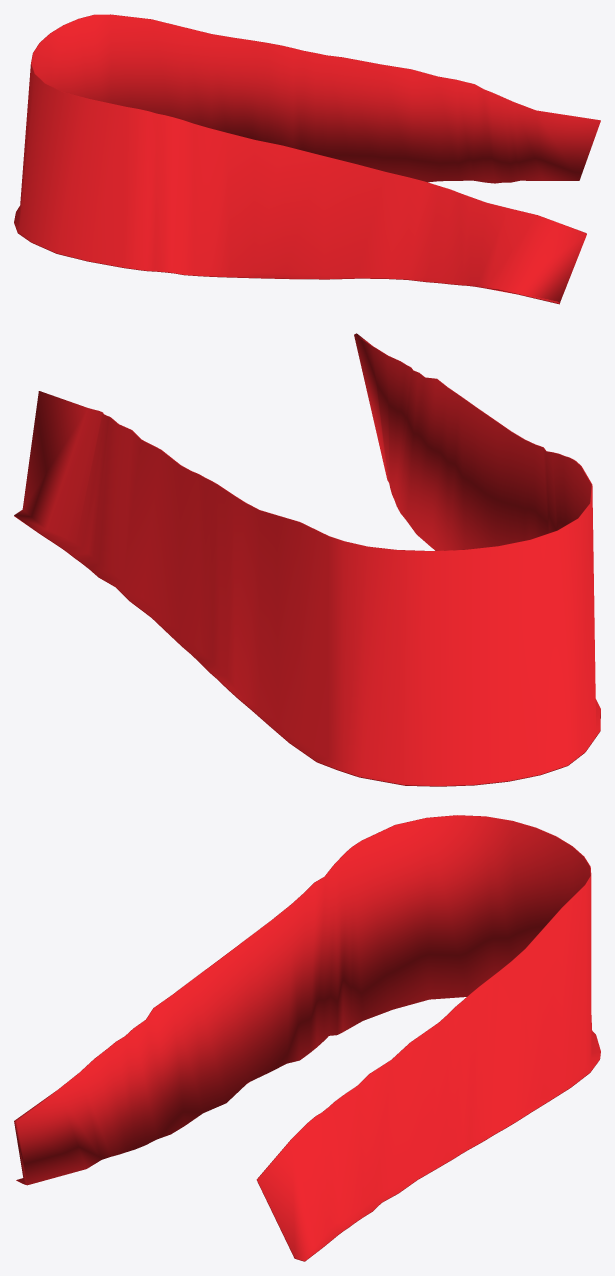
Rendered from RearLeftRed.obj.
The picture shows the model from 3 angles, top to bottom: view 1: azimuth 30°, elevation 25°; view 2: azimuth 150°, elevation 25°; view 3: azimuth 270°, elevation 25°; orthographic projection. The views are drawn at different scales.
Parts seen in each view (by area): view 1: BezierCurveC_CUBezierCurve.004; view 2: BezierCurveC_CUBezierCurve.004; view 3: BezierCurveC_CUBezierCurve.004.
Boxes of the visible parts, x1,y1,x2,y2 form: BezierCurveC_CUBezierCurve.004: (14, 14, 600, 304); BezierCurveC_CUBezierCurve.004: (14, 333, 600, 786); BezierCurveC_CUBezierCurve.004: (14, 815, 600, 1261).
Bounding box in the file's own units: 14.84 × 4.9 × 13.68.
